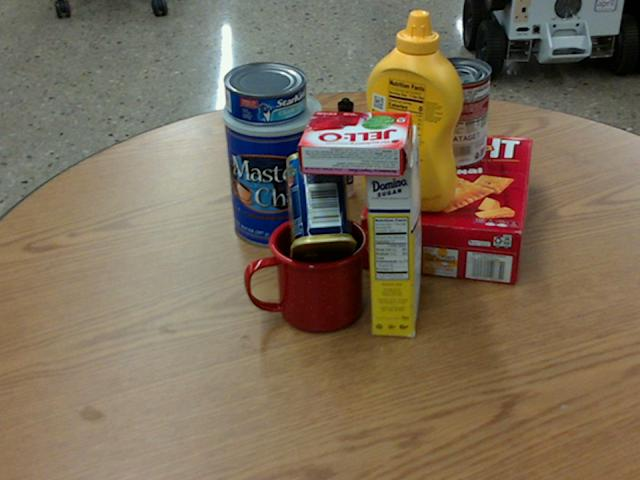cracker_box: (358, 127, 531, 284)
gelatin_box: (296, 109, 414, 176)
large_marker: (336, 99, 353, 198)
master_chef_can: (222, 87, 324, 245)
mug: (240, 214, 365, 333)
mustard_bottle: (362, 9, 463, 210)
potted_meat_can: (285, 150, 356, 269)
sugar_box: (364, 124, 418, 336)
tomato_soup_can: (425, 56, 490, 167)
tuna_fish_can: (222, 60, 306, 123)
